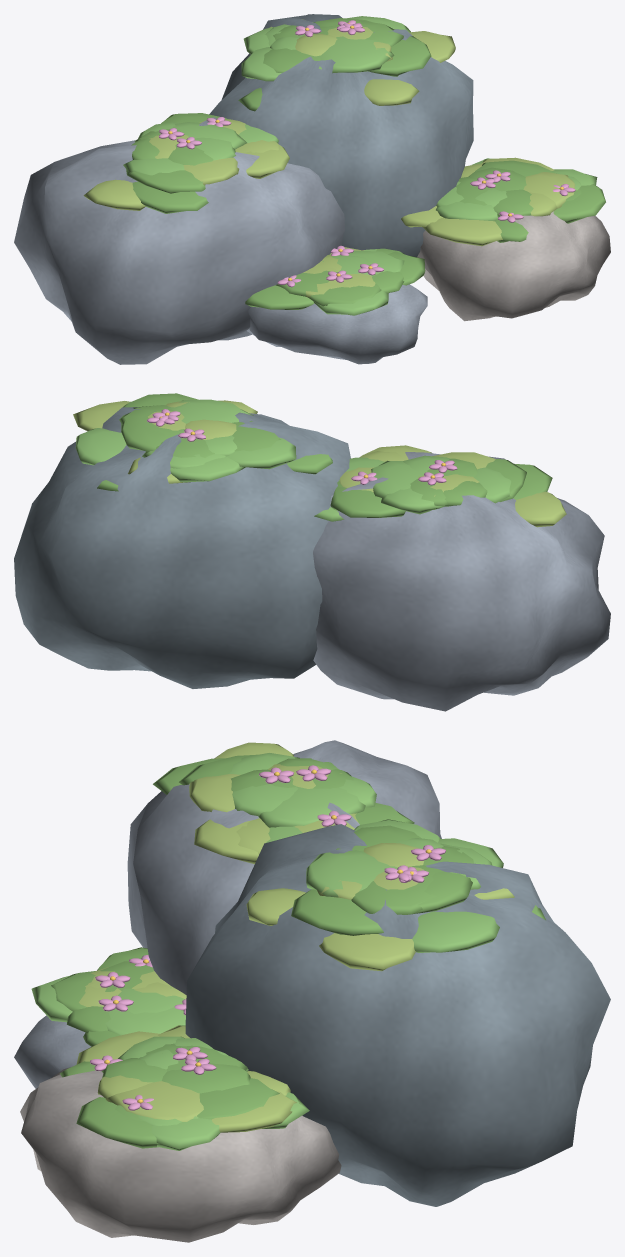
File: stones.glb
The picture shows the model from 3 angles, top to bottom: view 1: azimuth 30°, elevation 25°; view 2: azimuth 150°, elevation 25°; view 3: azimuth 270°, elevation 25°; orthographic projection. The views are drawn at different scales.
Parts seen in each view (by area): view 1: stones; view 2: stones; view 3: stones.
Part boxes in pixels (x1,y1,x2,y2): stones: [14, 14, 610, 364]; stones: [14, 393, 610, 711]; stones: [14, 740, 610, 1242].
Size of the model in its own units: 1.89 by 0.8362 by 1.45.
Materials: 8 (3 with a texture image).
